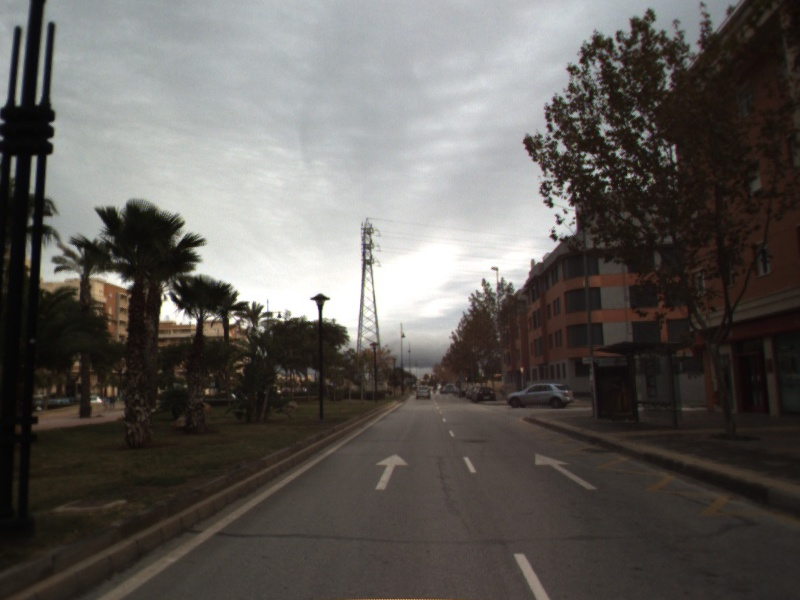STRAIGHT: (533, 451, 600, 491), (373, 451, 410, 491)
